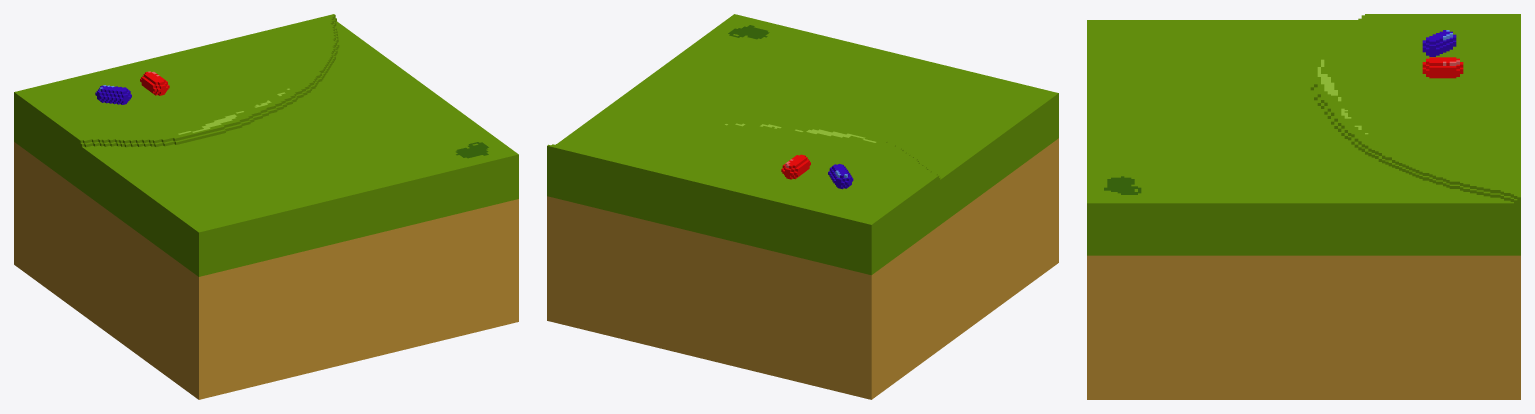
The picture shows the model from 3 angles, left to right: view 1: azimuth 30°, elevation 25°; view 2: azimuth 150°, elevation 25°; view 3: azimuth 270°, elevation 25°; orthographic projection. The views are drawn at different scales.
Visible parts, largest first — view 1: 9C; view 2: 9C; view 3: 9C.
Part boxes in pixels (x1,y1,x2,y2): 9C: (14, 14, 518, 399); 9C: (547, 14, 1058, 399); 9C: (1087, 14, 1520, 399).
Size of the model in its own units: 12.8 by 7.1 by 12.8.
1 material, 1 textured.
